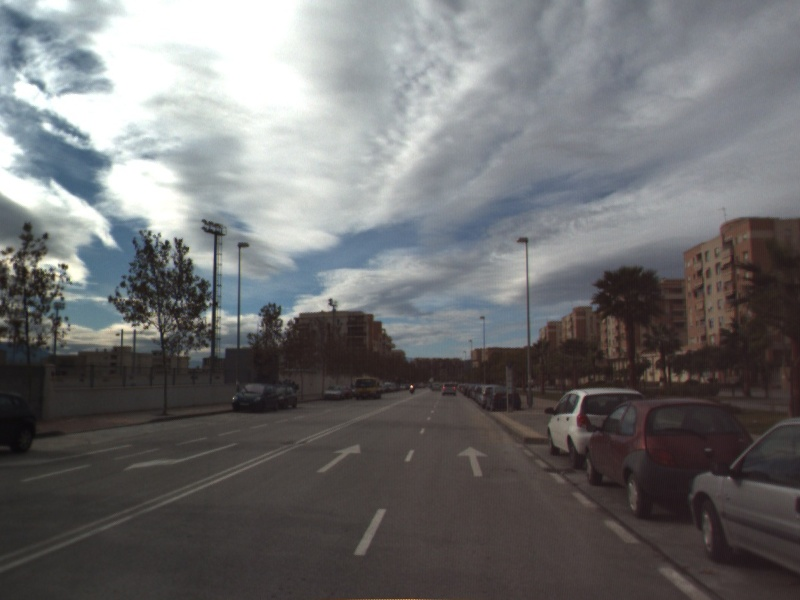STRAIGHT: (314, 442, 363, 474), (455, 444, 491, 478)
